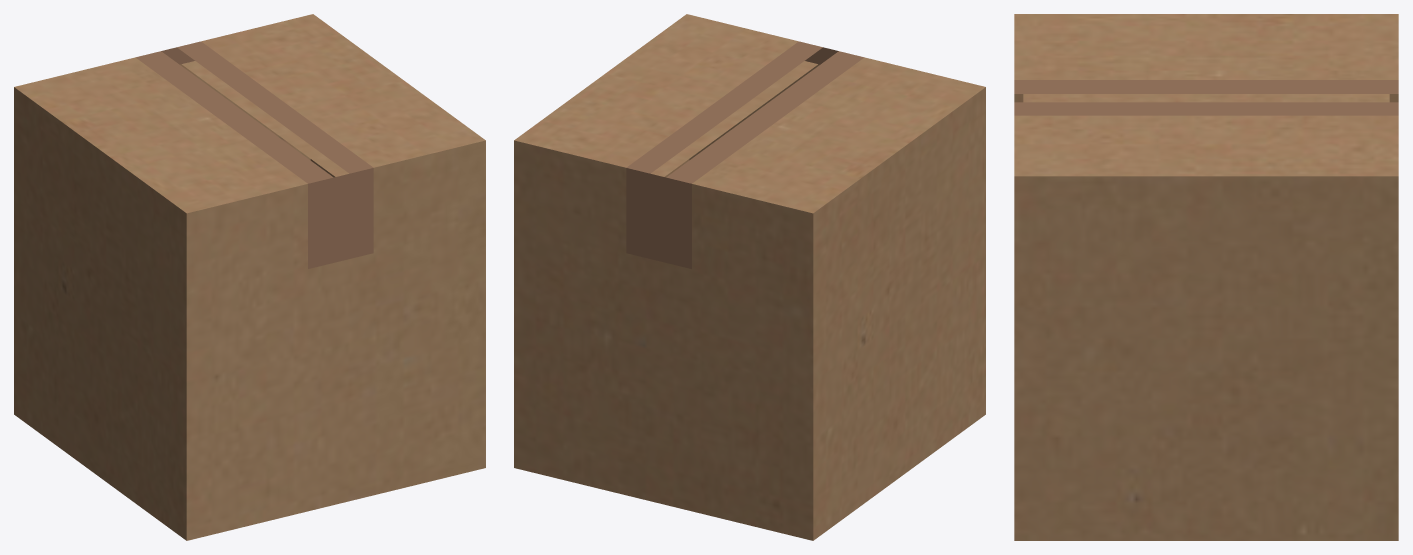
The model's file is closedbox.fbx.
The picture shows the model from 3 angles, left to right: view 1: azimuth 30°, elevation 25°; view 2: azimuth 150°, elevation 25°; view 3: azimuth 270°, elevation 25°; orthographic projection. The views are drawn at different scales.
Parts seen in each view (by area): view 1: Cube; view 2: Cube; view 3: Cube.
Boxes of the visible parts, bbox=[...] form: Cube: bbox=[14, 14, 485, 540]; Cube: bbox=[514, 14, 985, 540]; Cube: bbox=[1014, 14, 1398, 540].
Size of the model in its own units: 106 by 111 by 106.
